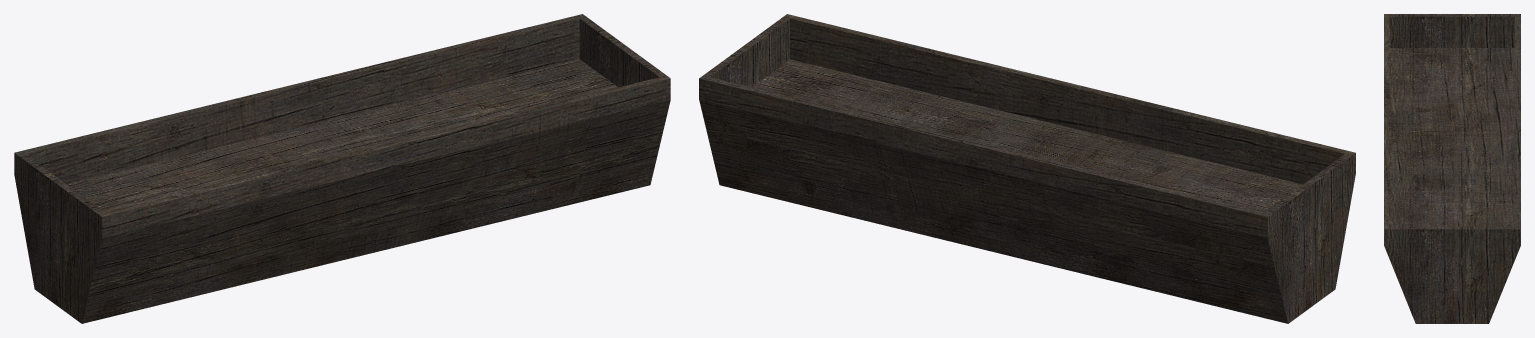
Rendered from Pot.fbx.
The picture shows the model from 3 angles, left to right: view 1: azimuth 30°, elevation 25°; view 2: azimuth 150°, elevation 25°; view 3: azimuth 270°, elevation 25°; orthographic projection. The views are drawn at different scales.
Visible parts, largest first — view 1: Model; view 2: Model; view 3: Model.
Boxes of the visible parts, x1=… form: Model: x1=14, y1=14, x2=670, y2=323; Model: x1=699, y1=14, x2=1355, y2=323; Model: x1=1384, y1=14, x2=1520, y2=323.
Bounding box in the file's own units: 13.75 × 2.81 × 3.69.
